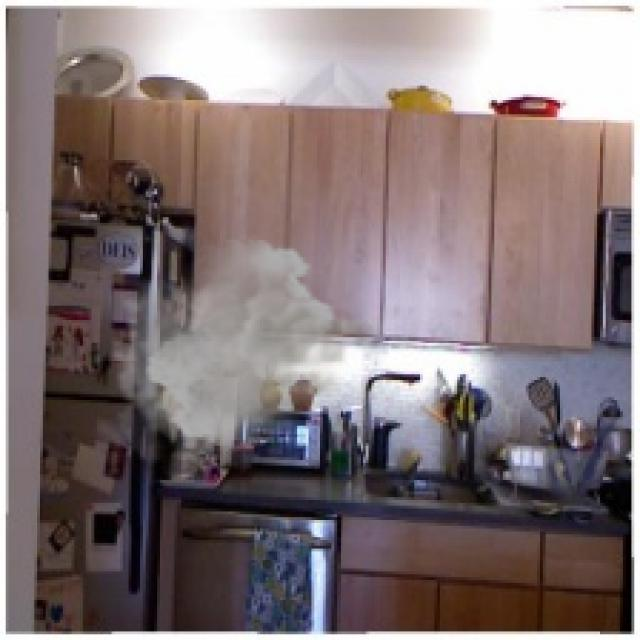smoke: (109, 234, 388, 483)
